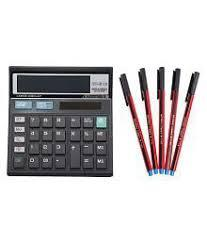Calculator: (0, 60, 117, 182)
